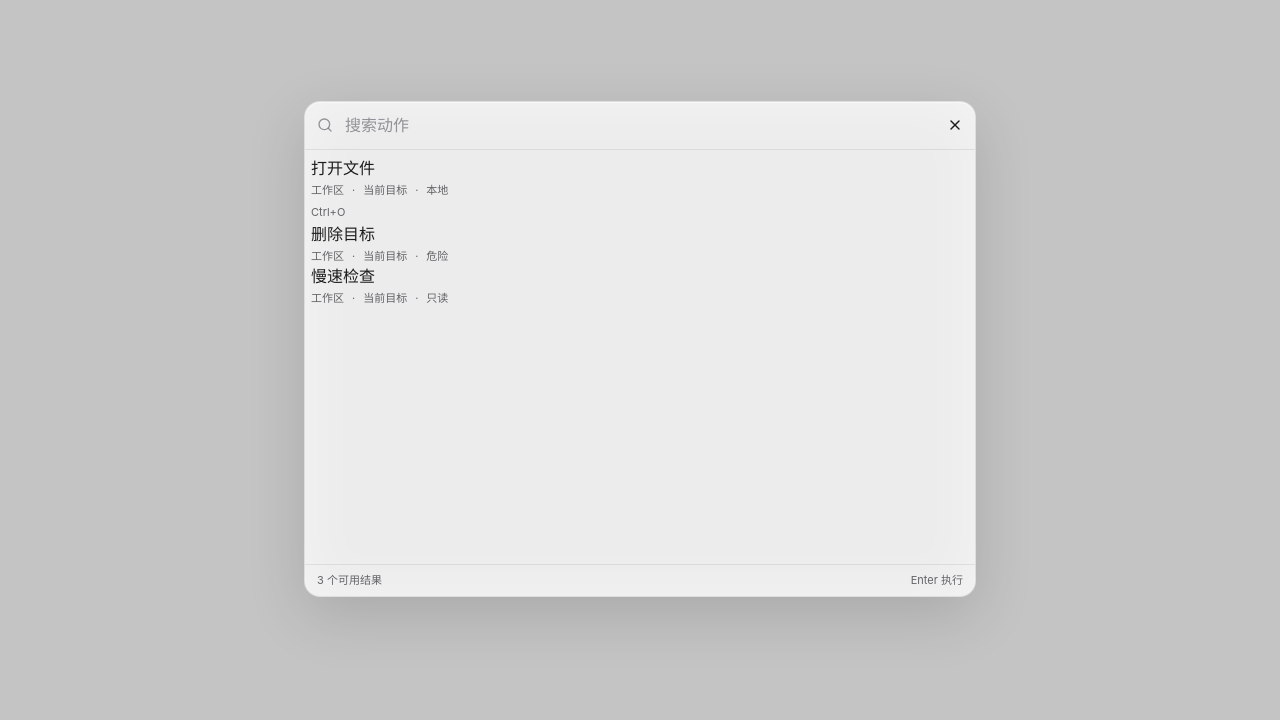
CommandPalette › closes after a completed action
Click the text "打开文件": (343, 168) [311,158,375,178]
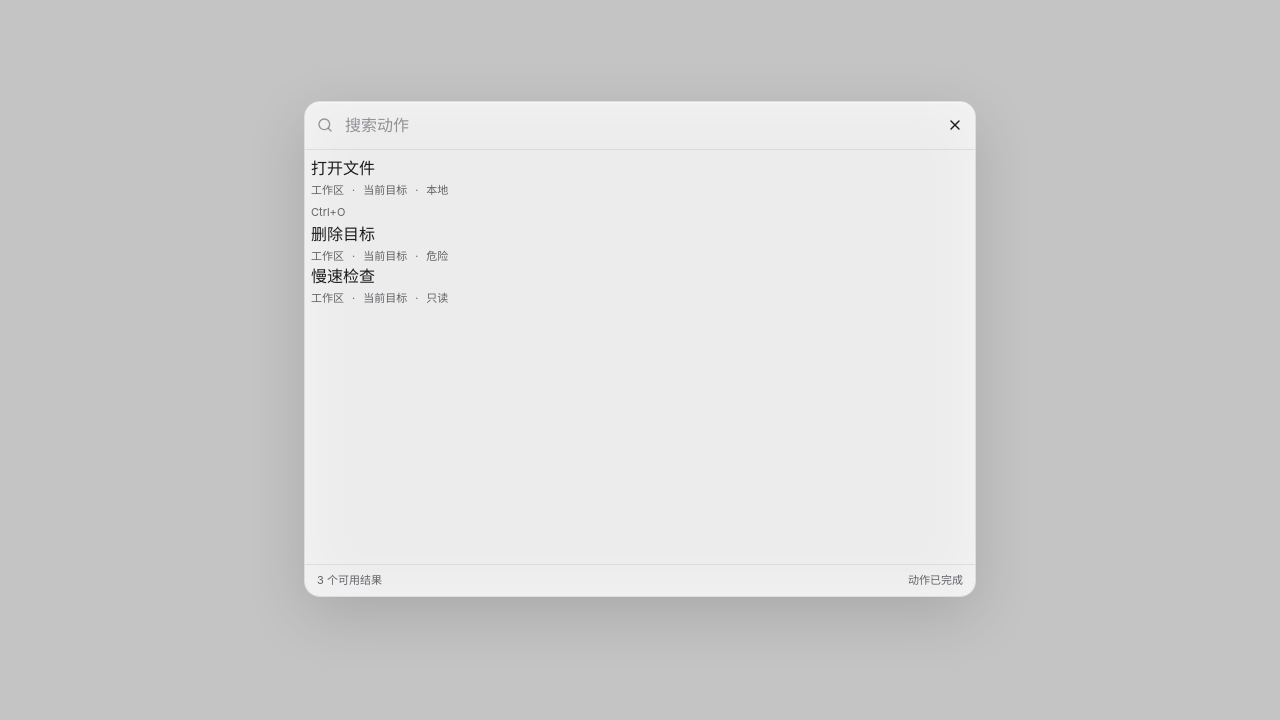
Now the message shows "动作已完成", box [908,573,963,587]
